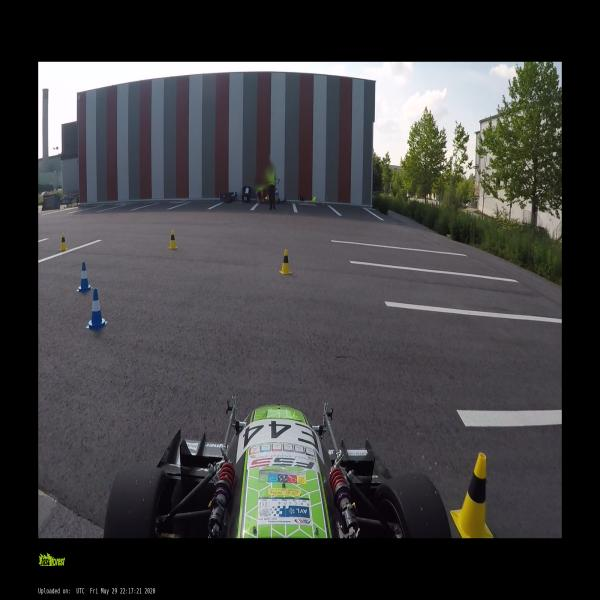blue_cone: (88, 290, 105, 328), (78, 262, 91, 292)
yellow_cone: (450, 452, 498, 538), (278, 250, 292, 276), (167, 230, 177, 251), (58, 232, 68, 252)
